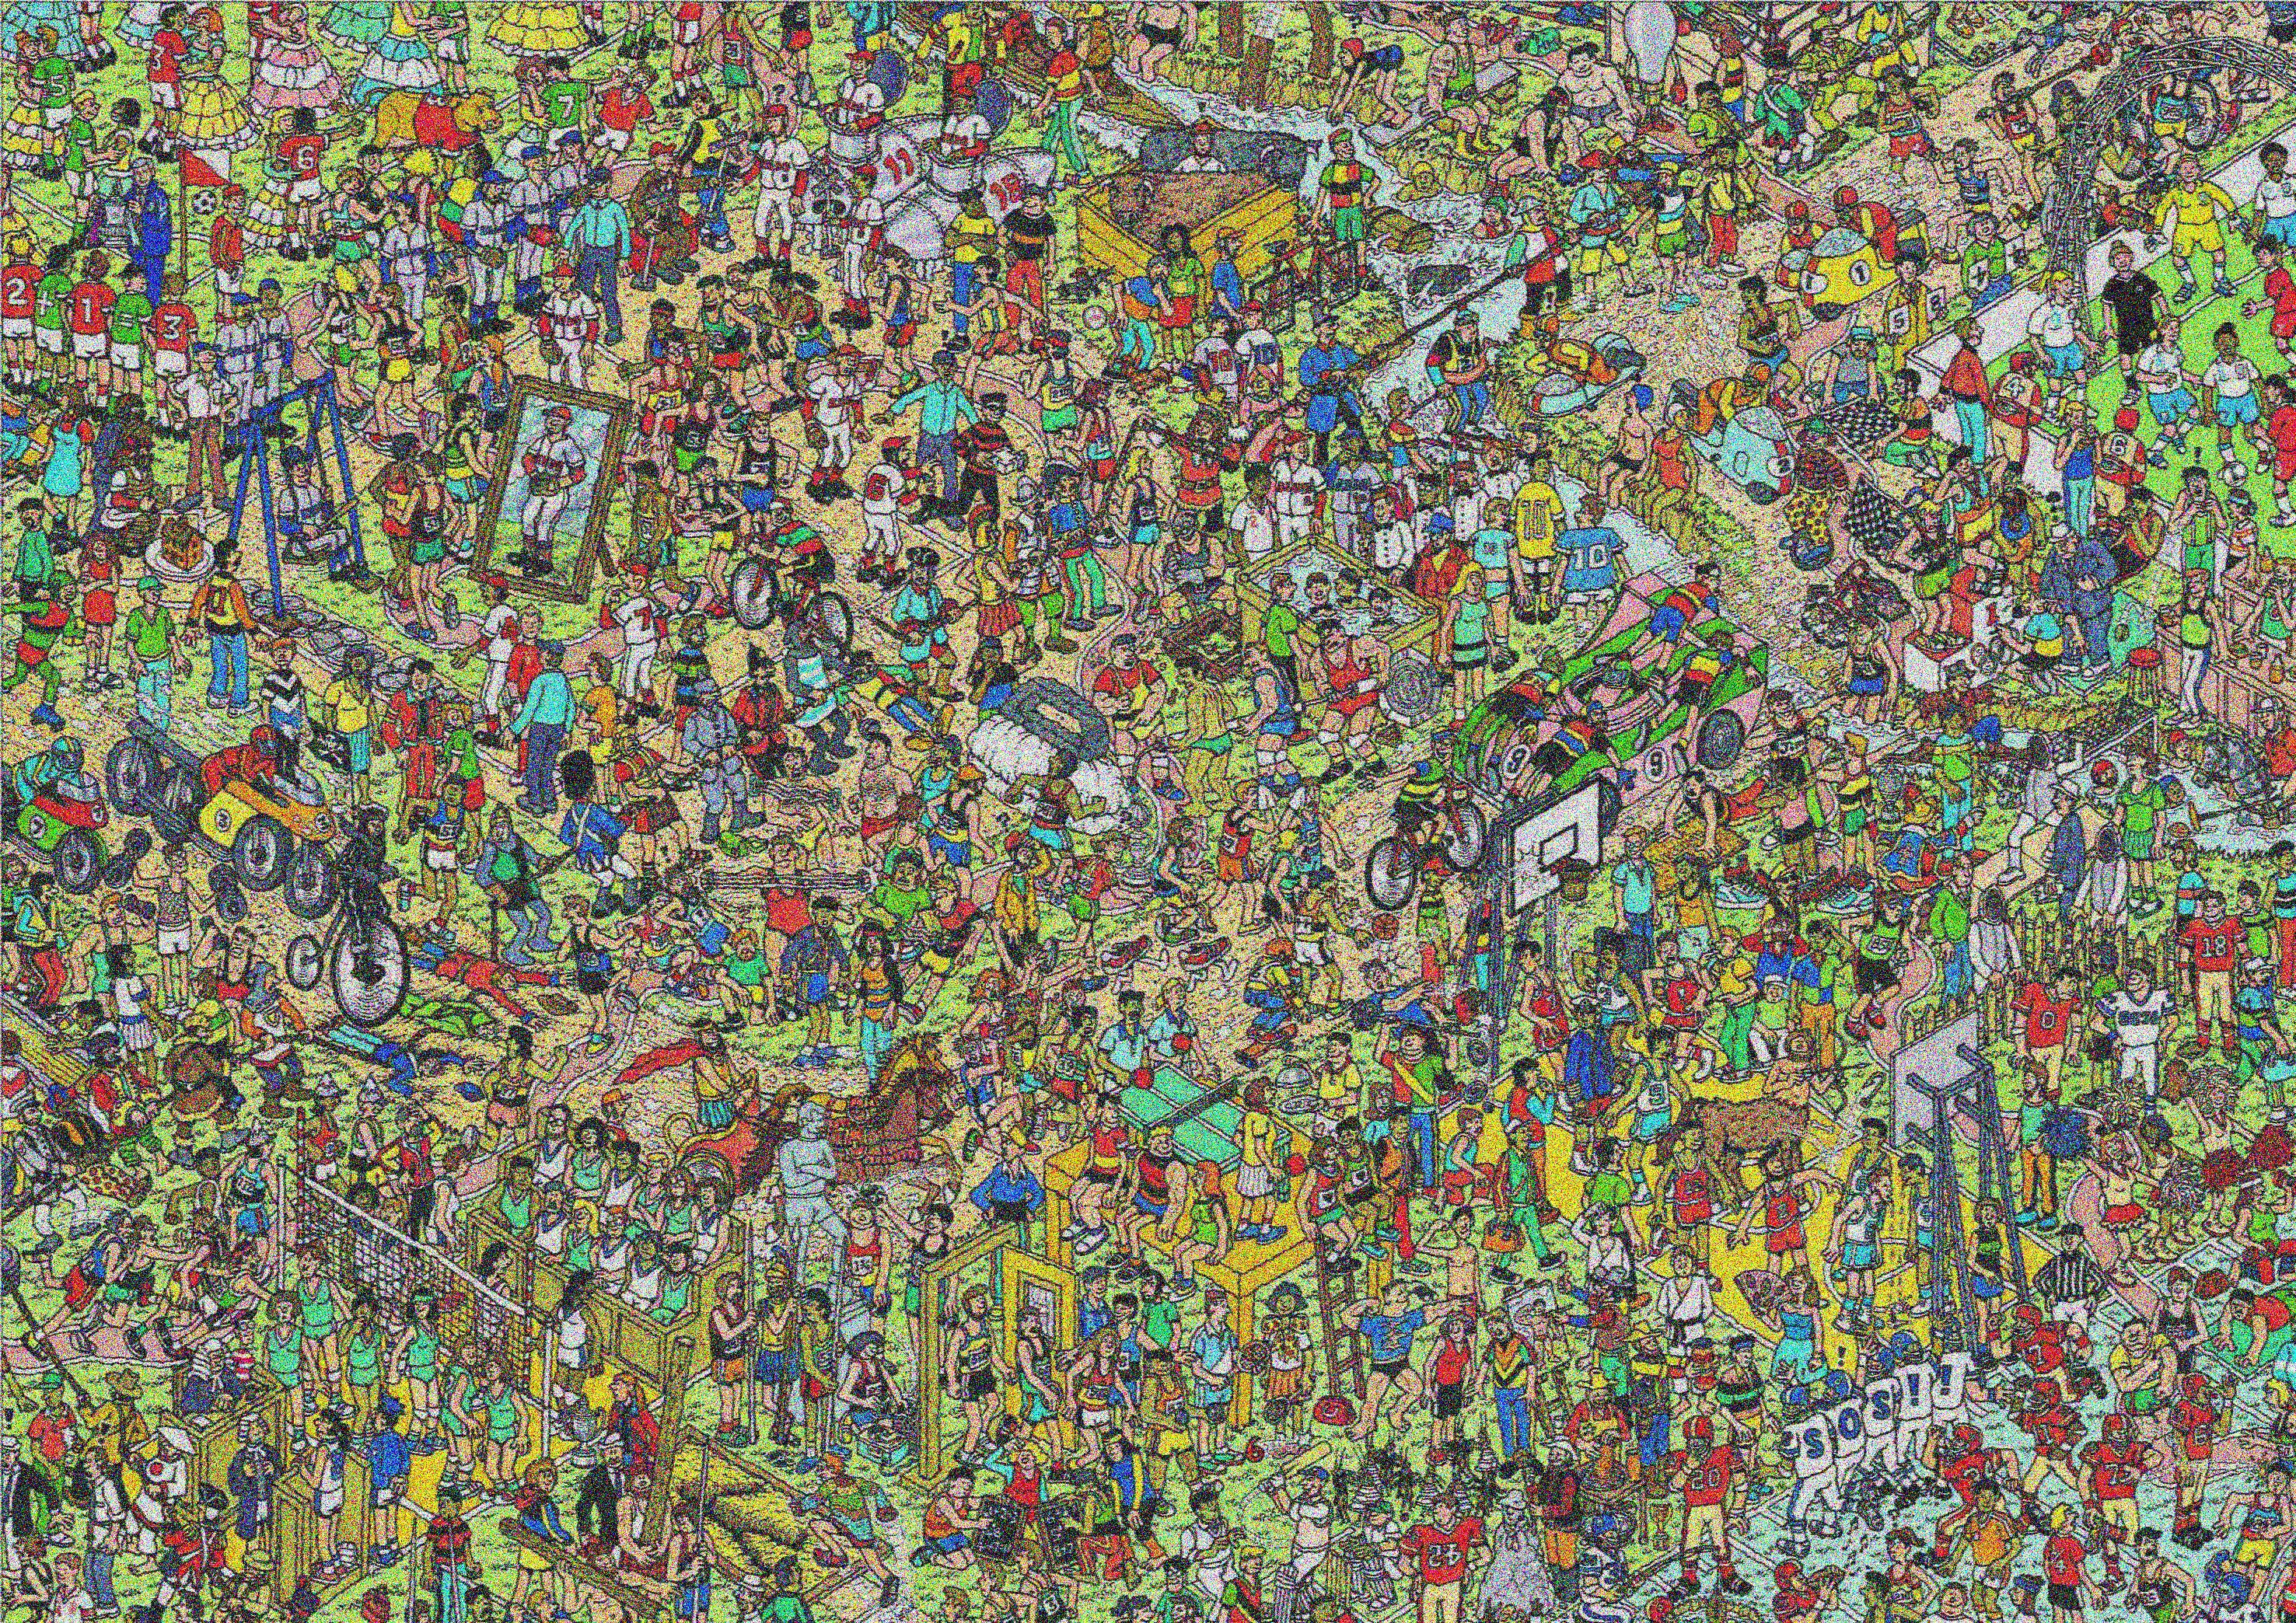waldos: (225, 1310, 264, 1382)
